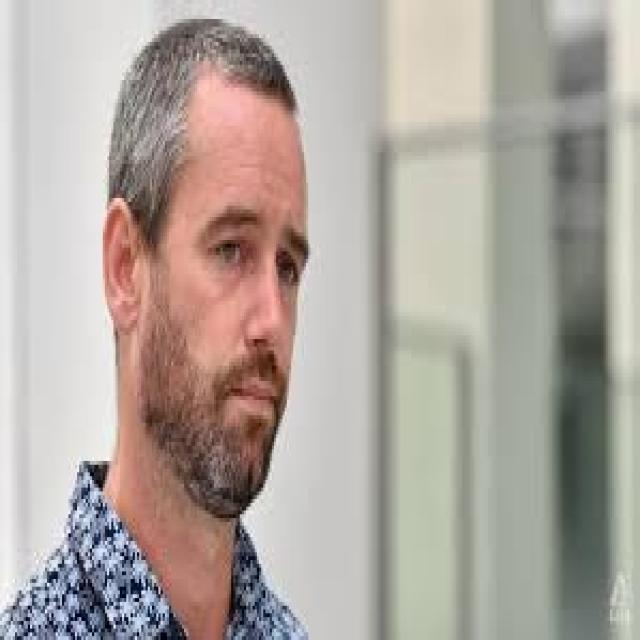person-without-mask: (10, 18, 341, 640)
